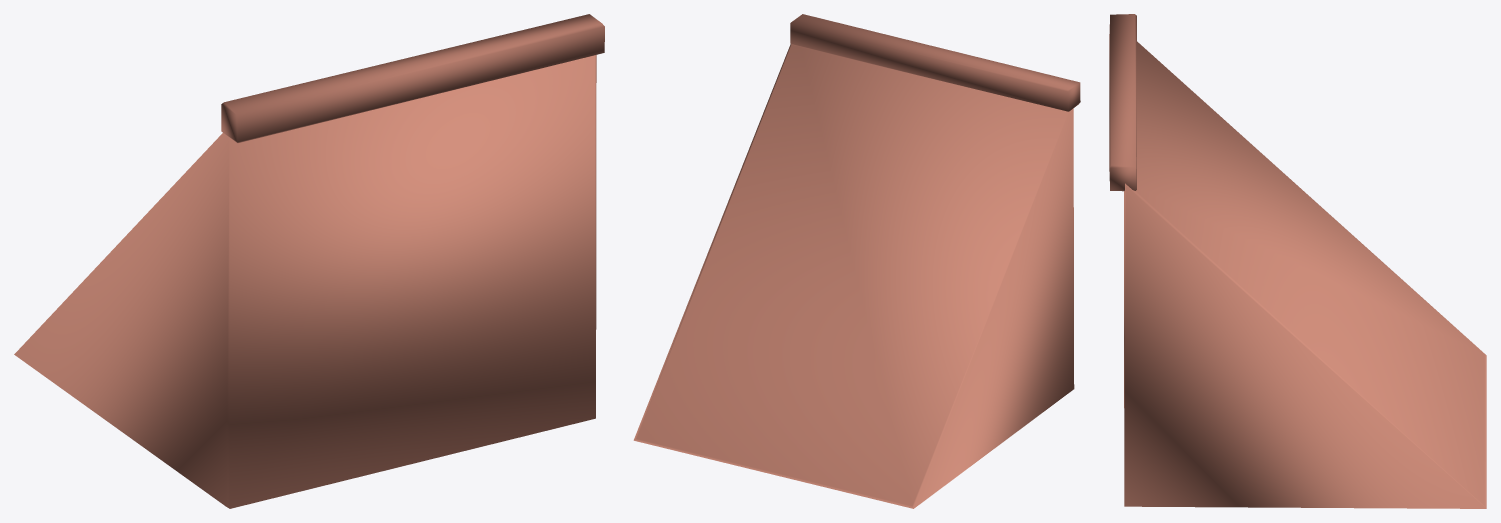
Rendered from struct_roof.glb.
3 views of the same model, side by side, from view 1: azimuth 30°, elevation 25°; view 2: azimuth 150°, elevation 25°; view 3: azimuth 270°, elevation 25° (orthographic). The views are drawn at different scales.
Visible parts, largest first — view 1: struct_roof; view 2: struct_roof; view 3: struct_roof.
Part boxes in pixels (box(x1,y1,x2,y2)): struct_roof: box(14, 14, 604, 508); struct_roof: box(633, 14, 1080, 508); struct_roof: box(1109, 14, 1486, 508).
Bounding box in the file's own units: 1 × 1.04 × 1.04.
